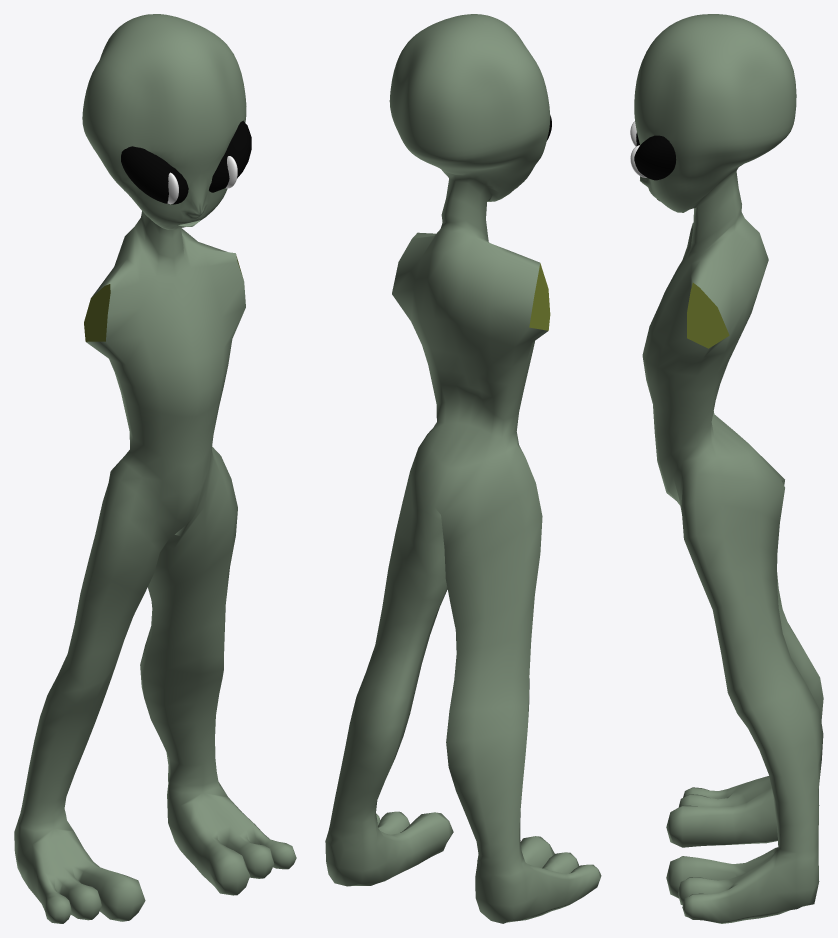
Rendered from GreenNoArms.fbx.
3 views of the same model, side by side, from view 1: azimuth 30°, elevation 25°; view 2: azimuth 150°, elevation 25°; view 3: azimuth 270°, elevation 25° (orthographic). The views are drawn at different scales.
Visible parts, largest first — view 1: polySurface4; view 2: polySurface4; view 3: polySurface4.
Part boxes in pixels (x1,y1,x2,y2): polySurface4: (14,14,296,923); polySurface4: (325,14,601,923); polySurface4: (630,14,823,923).
Size of the model in its own units: 62.59 by 213 by 43.57.
